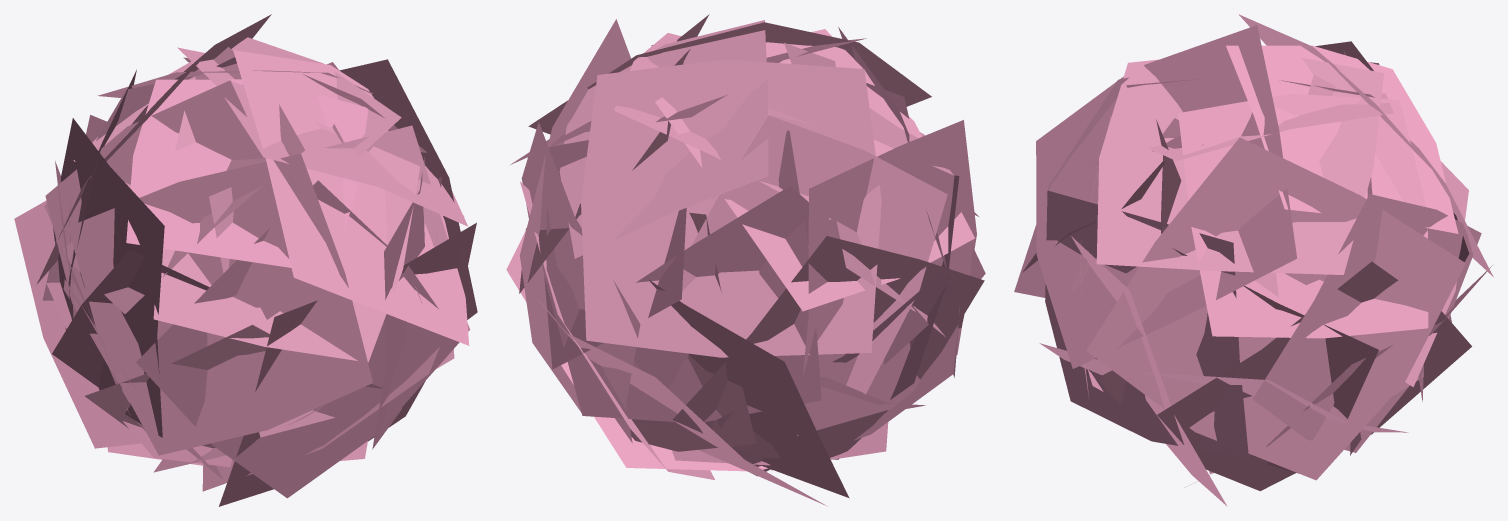
Rendered from bush3.glb.
The picture shows the model from 3 angles, left to right: view 1: azimuth 30°, elevation 25°; view 2: azimuth 150°, elevation 25°; view 3: azimuth 270°, elevation 25°; orthographic projection. The views are drawn at different scales.
Visible parts, largest first — view 1: leaves; view 2: leaves; view 3: leaves.
Boxes of the visible parts, x1,y1,x2,y2 form: leaves: (14,14,477,506); leaves: (506,14,985,506); leaves: (1014,14,1493,505).
Size of the model in its own units: 3.74 by 4.04 by 3.95.
